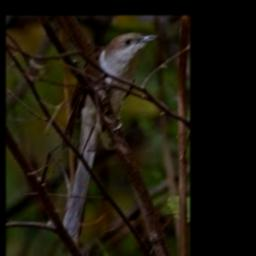Cuckoo: (61, 32, 155, 234)
